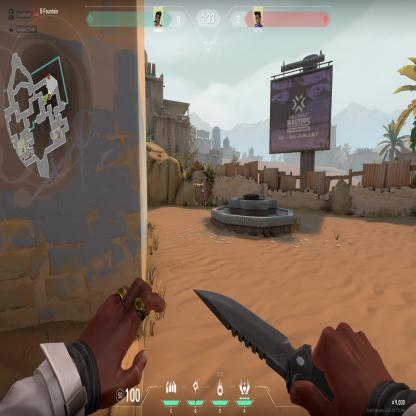enemy: (199, 179, 206, 206)
